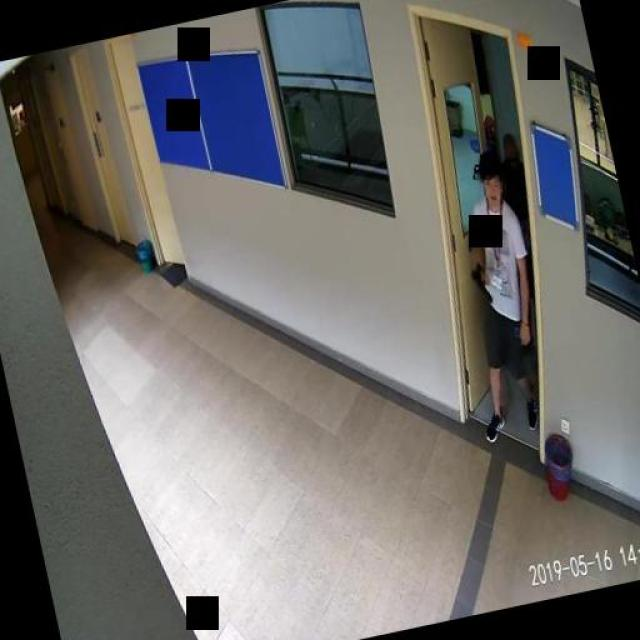gun: (465, 260, 491, 304)
